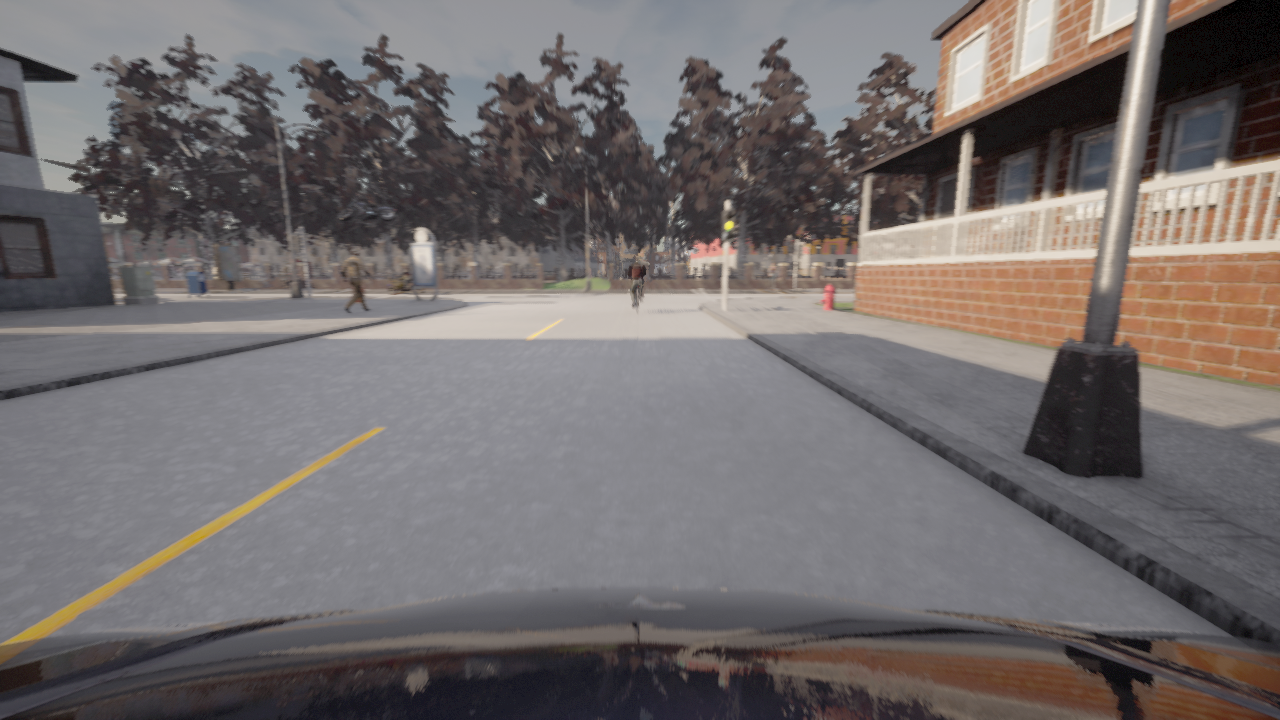cyclist: (0, 588, 1279, 719), (338, 193, 395, 222), (387, 273, 424, 293), (636, 286, 642, 306)
pedestrian: (342, 248, 372, 313), (769, 262, 777, 290)
